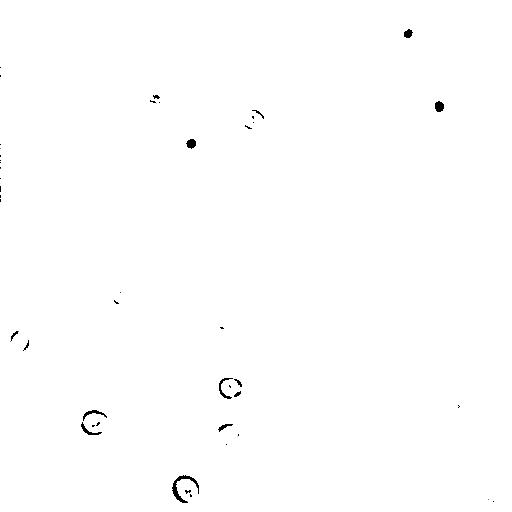micro-algae: (30, 60, 84, 110), (417, 82, 459, 125), (174, 122, 208, 159), (453, 395, 487, 431), (168, 472, 202, 504), (390, 16, 423, 48), (208, 196, 238, 229), (103, 281, 136, 311), (175, 397, 207, 424), (216, 374, 245, 401), (211, 421, 241, 447), (82, 408, 110, 434), (239, 106, 268, 131), (465, 496, 510, 511), (6, 327, 29, 352), (239, 0, 275, 15)
